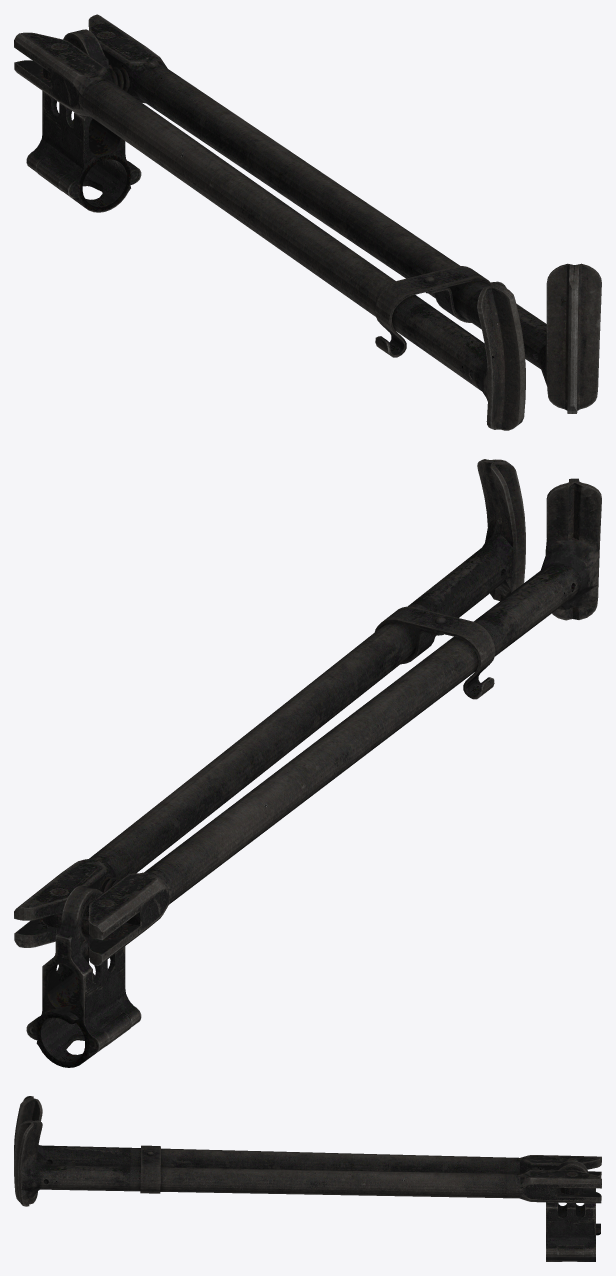
3 renders of one model, top to bottom at view 1: azimuth 30°, elevation 25°; view 2: azimuth 150°, elevation 25°; view 3: azimuth 270°, elevation 25°, orthographic. The views are drawn at different scales.
Parts seen in each view (by area): view 1: TW_6513f037e06849f06c0957d7_PZ_Import; view 2: TW_6513f037e06849f06c0957d7_PZ_Import; view 3: TW_6513f037e06849f06c0957d7_PZ_Import.
Boxes of the visible parts, box(x1,y1,x2,y2) form: TW_6513f037e06849f06c0957d7_PZ_Import: box(14, 14, 601, 430); TW_6513f037e06849f06c0957d7_PZ_Import: box(14, 459, 601, 1067); TW_6513f037e06849f06c0957d7_PZ_Import: box(14, 1096, 601, 1261).
Size of the model in its own units: 0.0298 by 0.2045 by 0.0576.
Materials: 1 (1 with a texture image).
